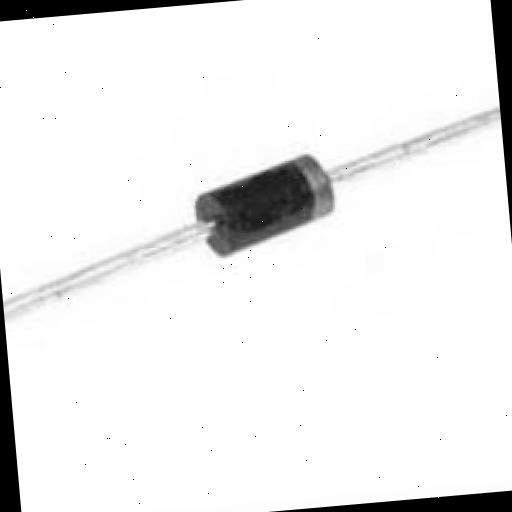DIODE: (174, 140, 372, 300)
